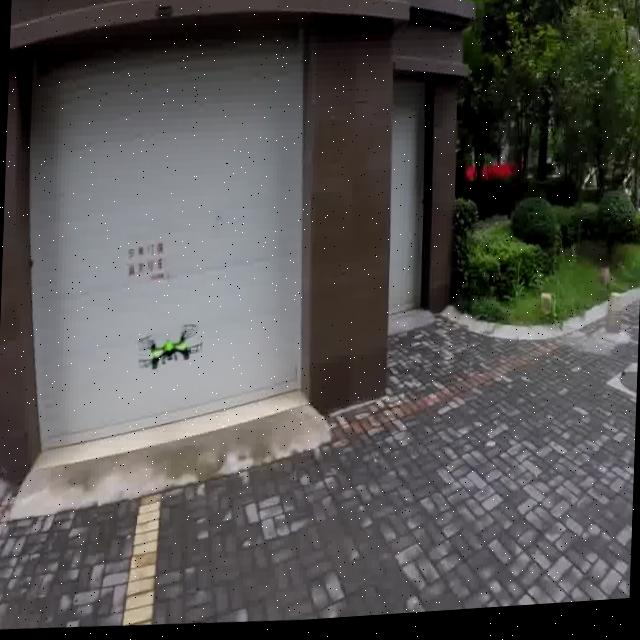drone: (130, 312, 212, 372)
